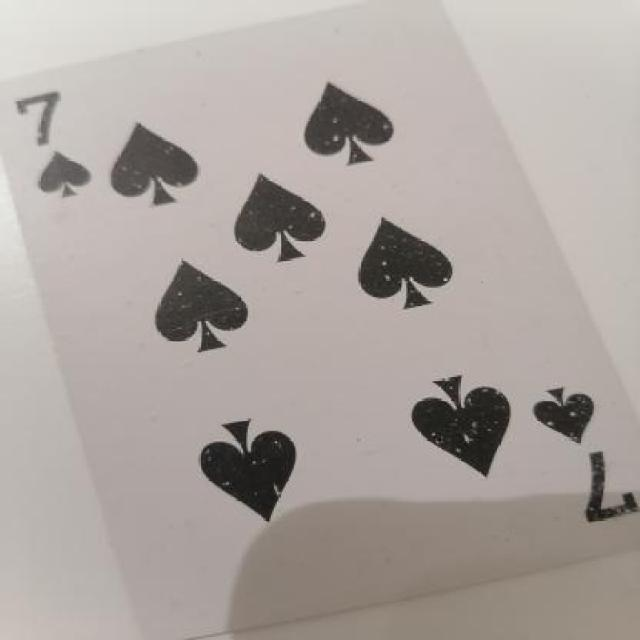7S: (512, 363, 640, 546), (0, 92, 103, 215)
